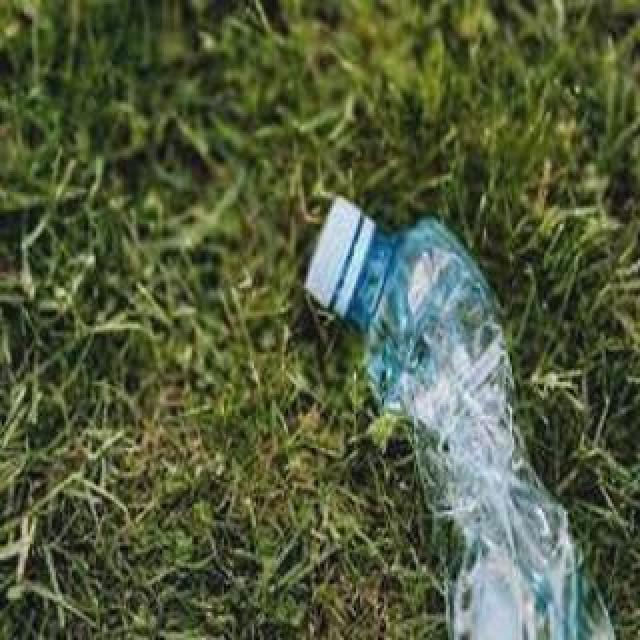Pet_Bottle: (304, 190, 614, 640)
